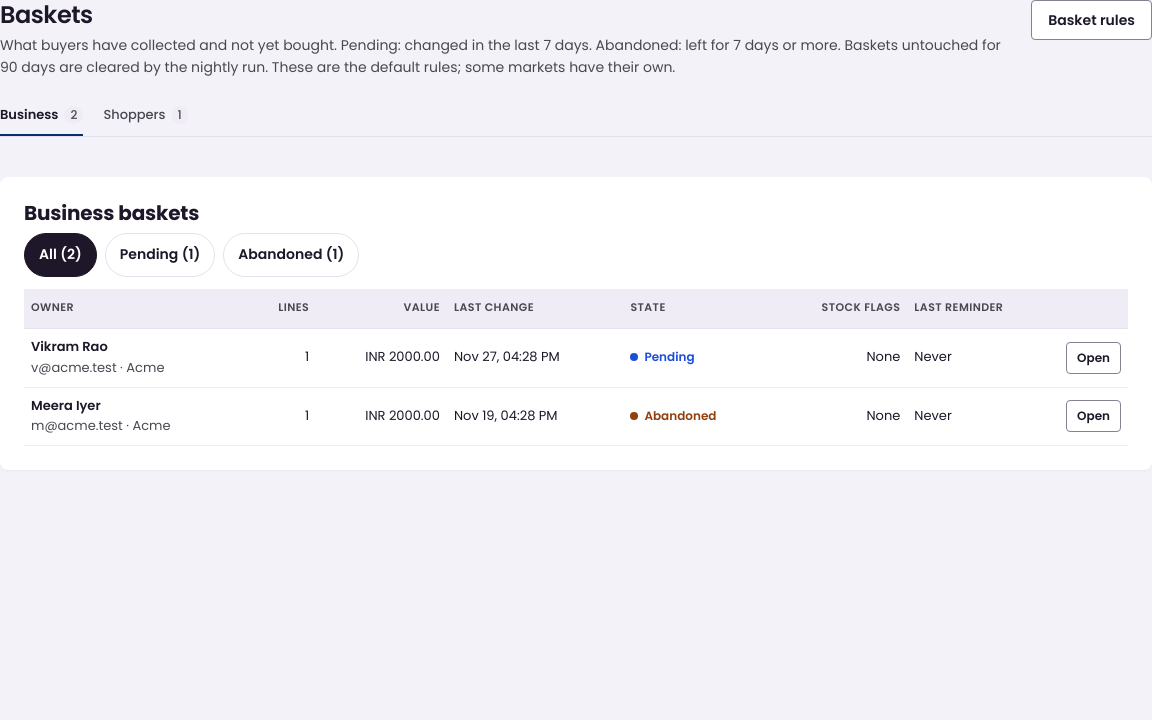
Baskets: rules from settings › previews a market row on the baskets of that market, and judges each basket by its market
Click the button "Basket rules" at (1092, 20), box [1031,0,1151,40]
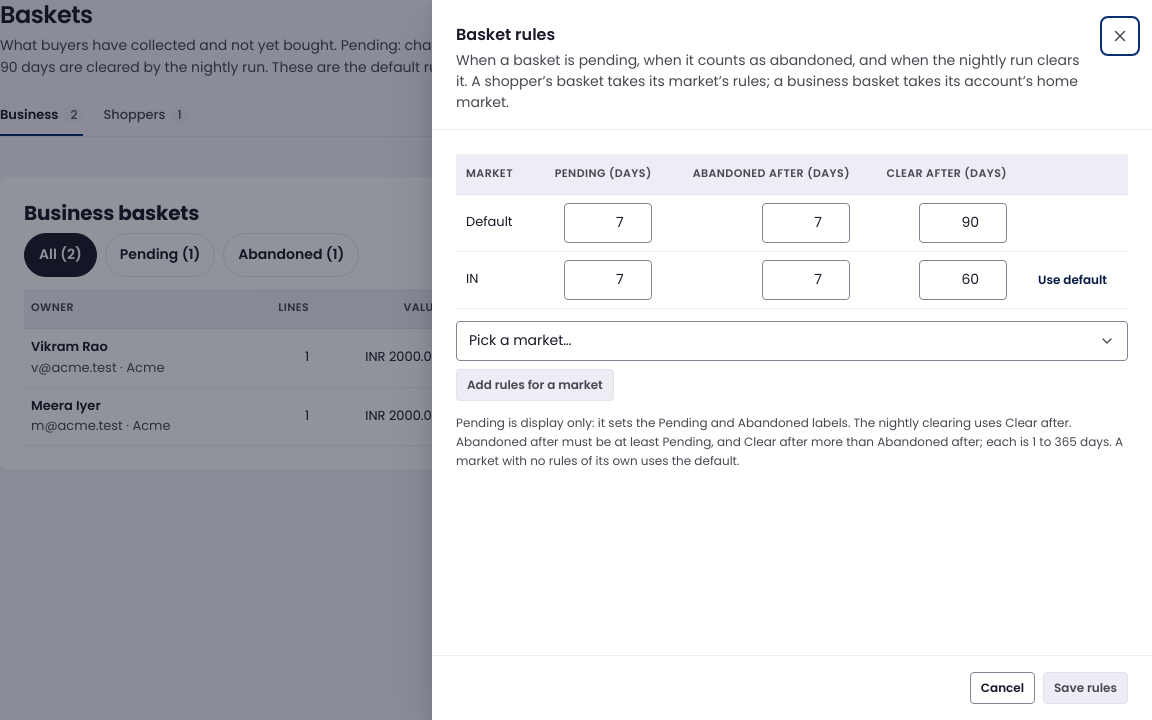
Replace the text in the number field named "IN pending days" with "2" at (608, 280), box [564,260,652,300]
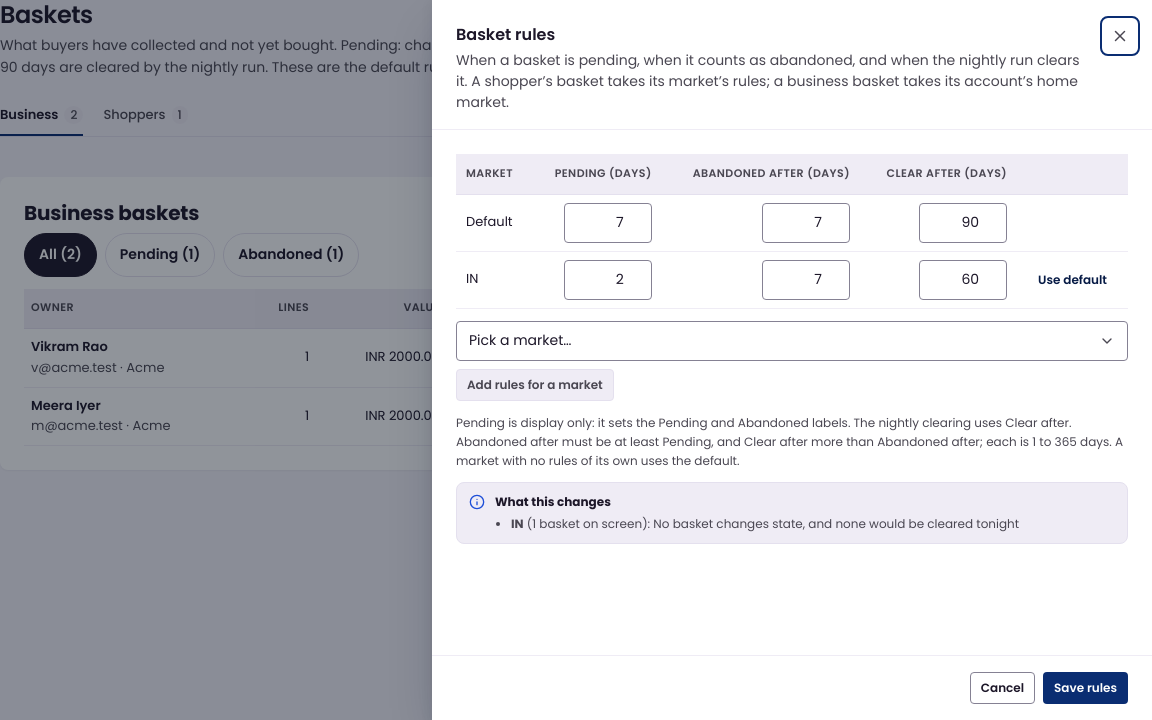
Replace the text in the number field named "IN abandoned after days" with "2" at (806, 280), box [762,260,850,300]
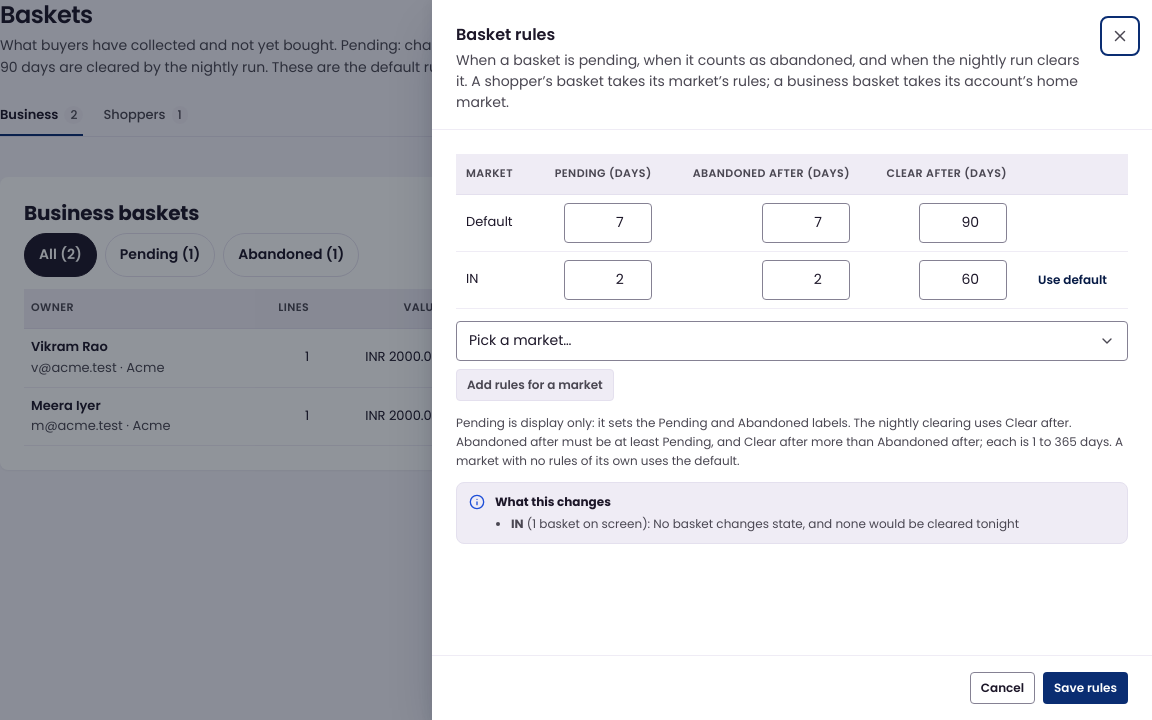
Replace the text in the number field named "IN clear after days" with "8" at (963, 280), box [919,260,1007,300]
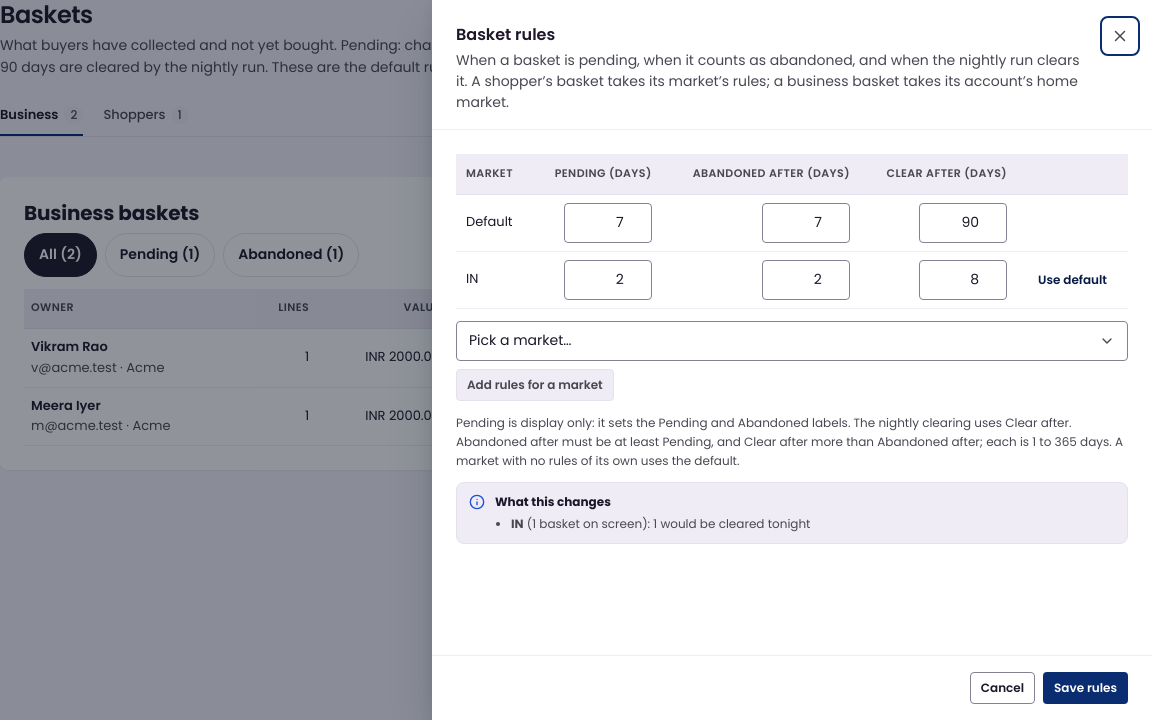
expect the text with test id "basket-rules-effect-IN" reads "1 would be cleared tonight": met, box [653,516,810,532]
